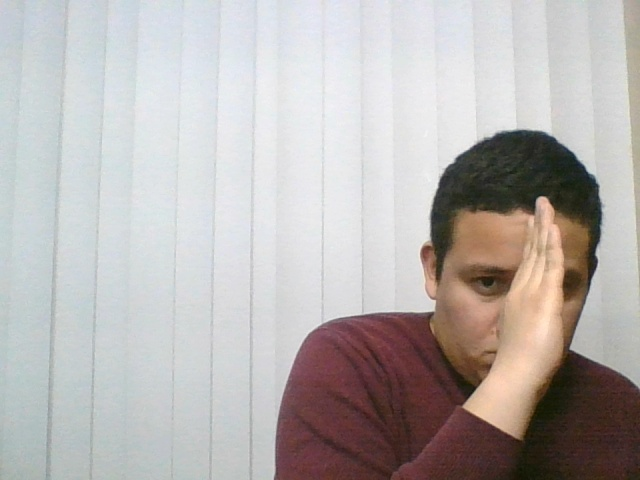God: (437, 184, 621, 423)
